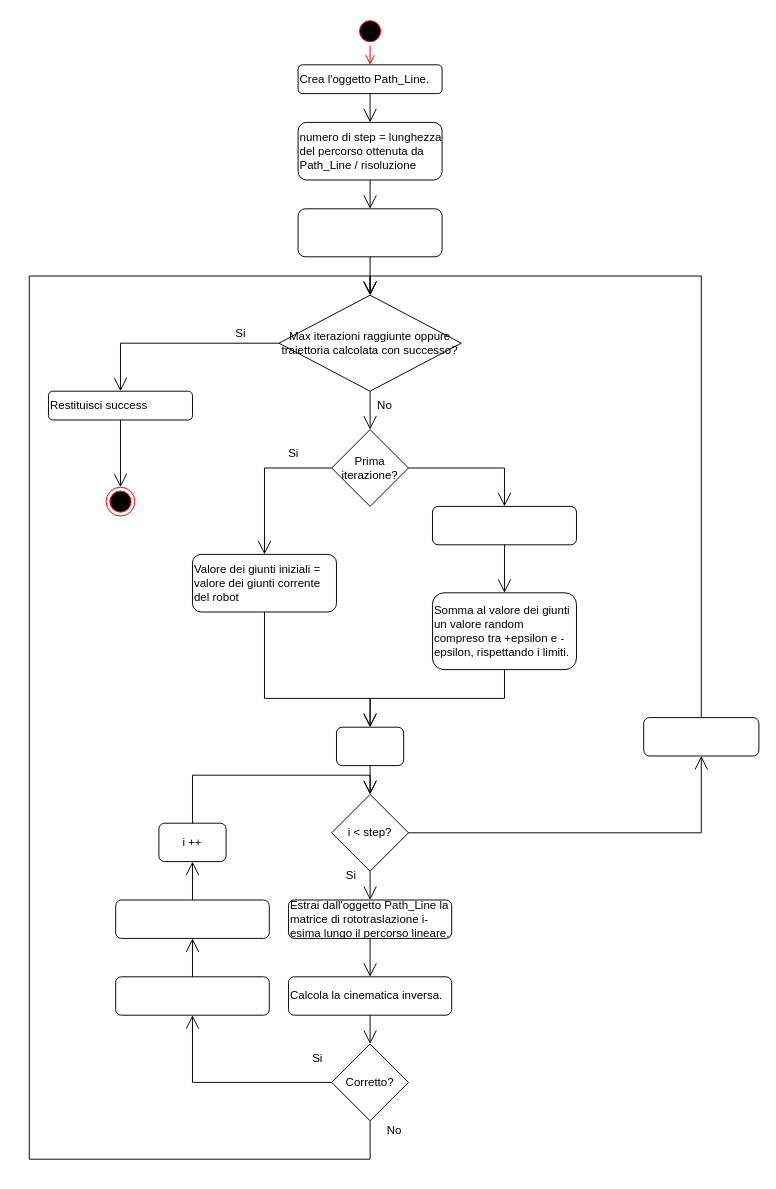
Some shapes in this 776 by 1189 pixel diagram are drawn without their labels. The centre of each missing label's shape, as x and y in pixels:
"Aggiungi il risultato al vettore contenente il percorso." goes at [192,995].
"epsilon = 0 pulisci il vettore contenente il percorso lineare." goes at [369,232].
"i = 0" goes at [370,746].
"Incrementa epsilon di due gradi." goes at [504,525].
"success = true" goes at [701,736].
"Valore iniziale dei giunti = risultato della cinematica inversa" goes at [192,918].
